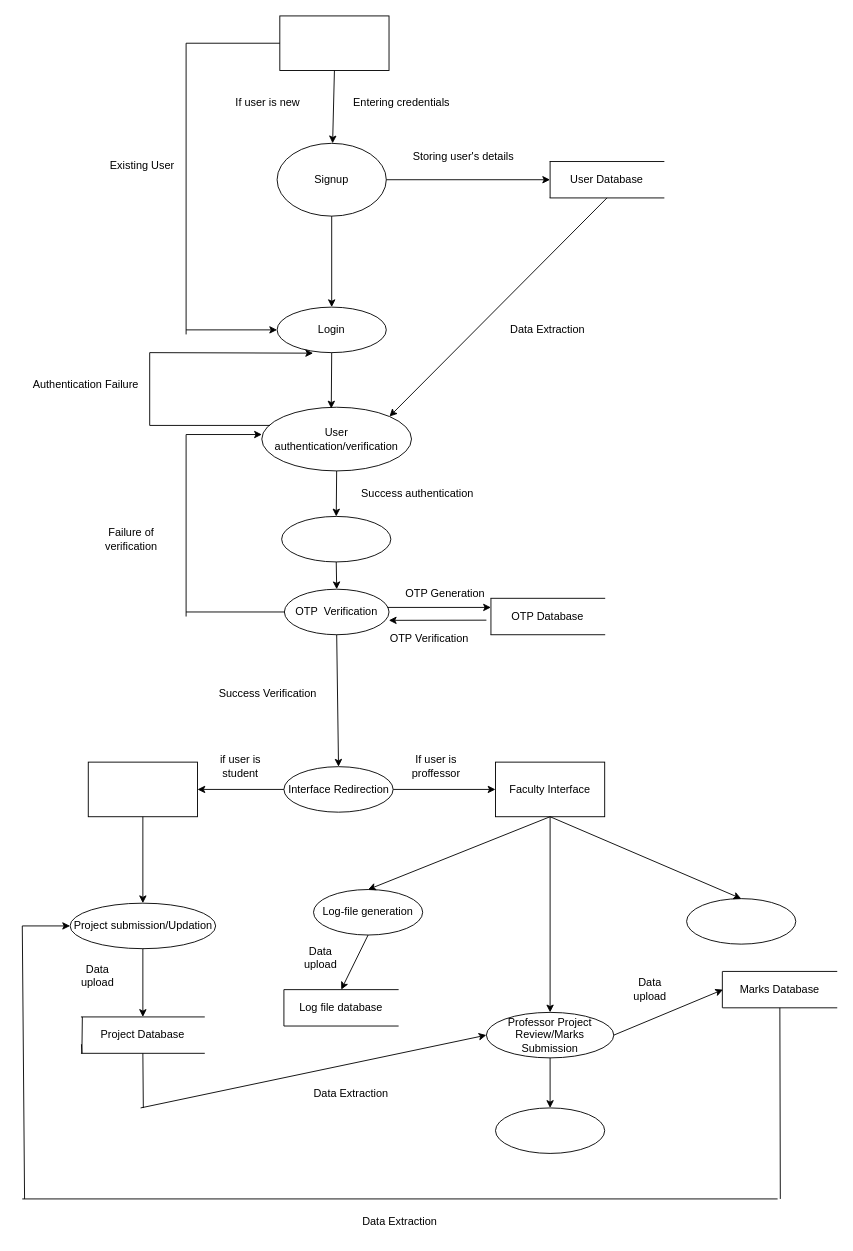
Some shapes in this 853 by 1251 pixel diagram are drawn without their labels. Each missing label, with the centre of its shape:
"Email Notfication to students" goes at (550,1130).
"Email Notification" goes at (336,539).
"Report Generation" goes at (741,921).
"Student Interface" goes at (142,789).
"User" goes at (334,43).
